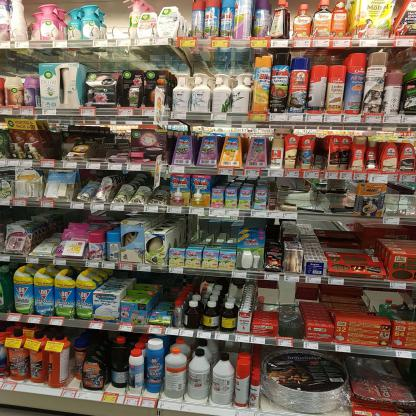Void: (322, 221, 352, 252), (46, 212, 59, 234)
